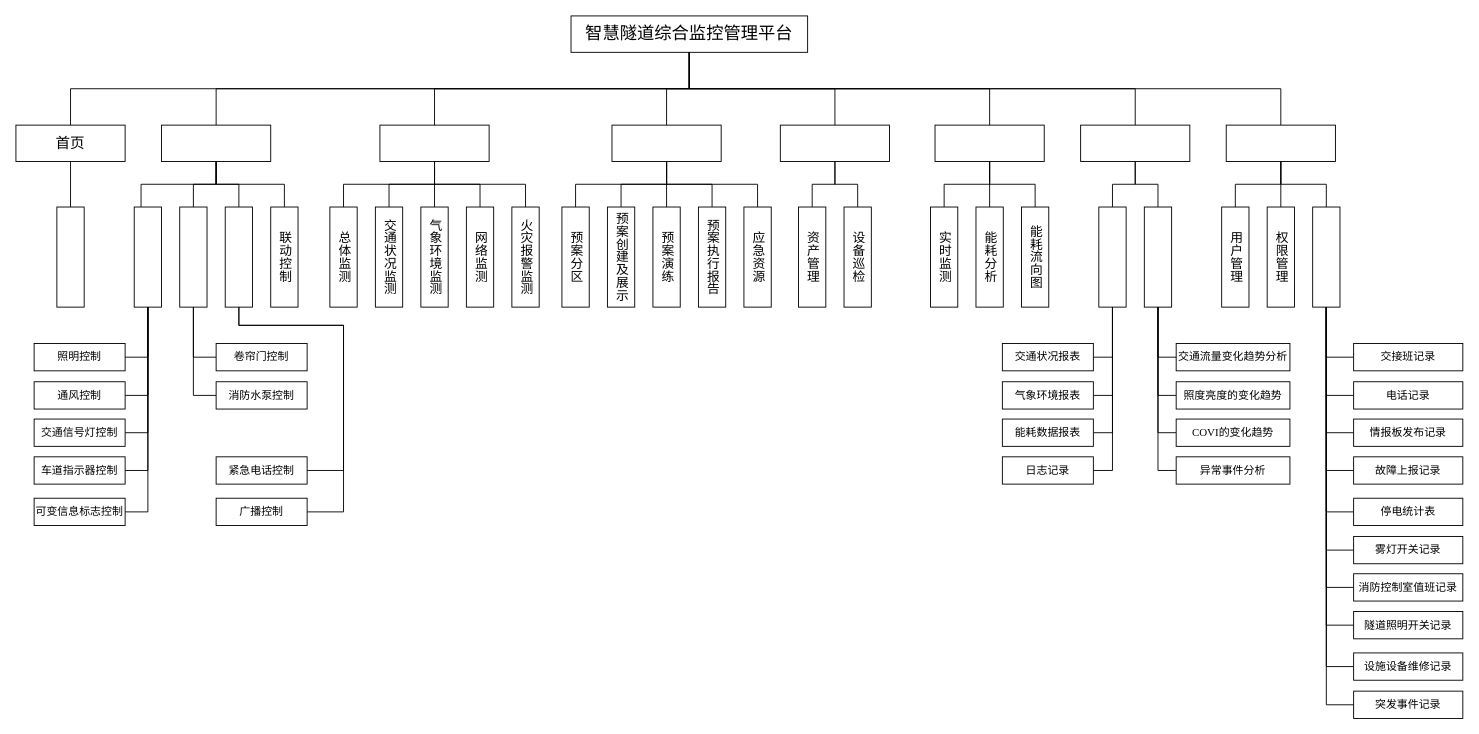
The diagram is 1479 pixels wide and 734 high, and some of its shapes have lost their labels. Here are the shapes that lost their labels. From the top down, the centre of each, then its label:
At point (216, 143): "运营管控".
At point (434, 143): "运行监测".
At point (666, 143): "应急处置".
At point (834, 143): "资产运维".
At point (989, 143): "能耗管控".
At point (1135, 143): "统计分析".
At point (1280, 143): "系统管理".
At point (70, 256): "G IS 地 图".
At point (147, 256): "总体监控".
At point (193, 256): "消防控制".
At point (238, 256): "电话与广播控制".
At point (1112, 256): "统计报表".
At point (1157, 256): "数据分析".
At point (1326, 256): "无纸化办公".
